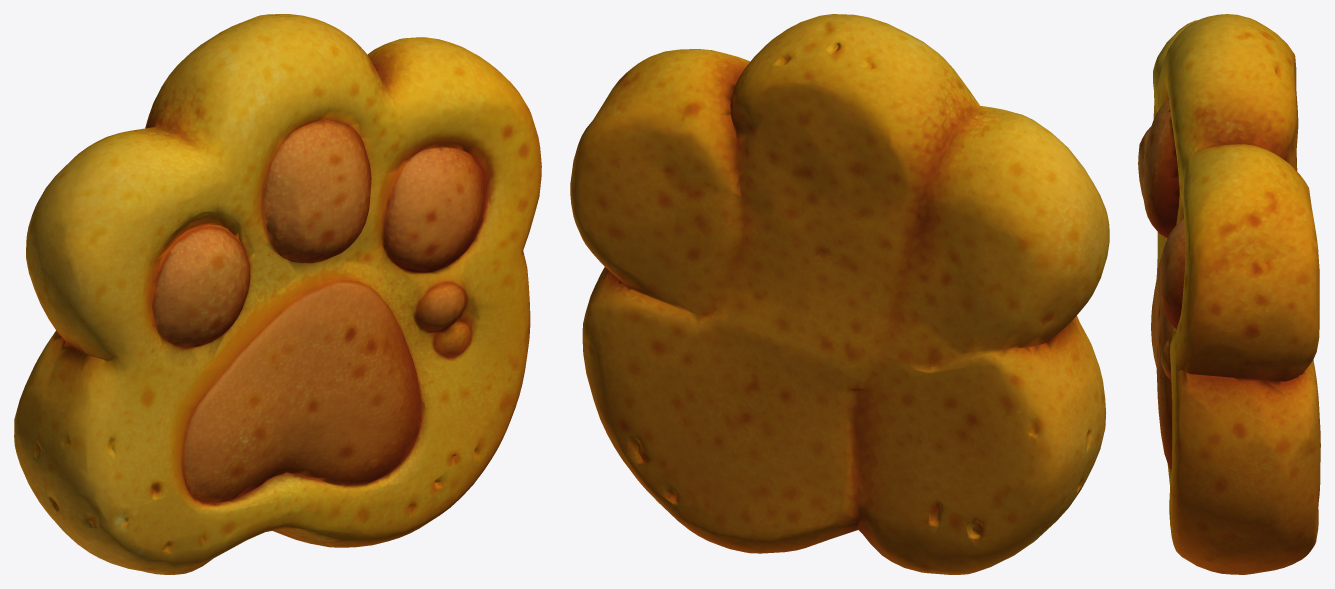
The model's file is cereal.glb.
The picture shows the model from 3 angles, left to right: view 1: azimuth 30°, elevation 25°; view 2: azimuth 150°, elevation 25°; view 3: azimuth 270°, elevation 25°; orthographic projection. The views are drawn at different scales.
Visible parts, largest first — view 1: geometry_0; view 2: geometry_0; view 3: geometry_0.
Part boxes in pixels (x1,y1,x2,y2): geometry_0: (14, 14, 541, 574); geometry_0: (570, 14, 1109, 574); geometry_0: (1138, 14, 1320, 574).
Size of the model in its own units: 0.7742 by 0.8079 by 0.2686.
1 material, 1 textured.
